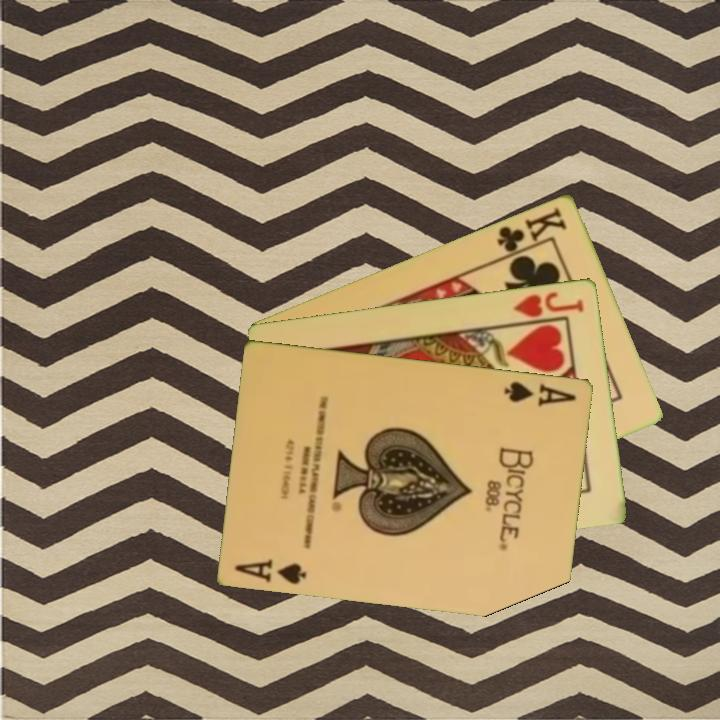As: (231, 555, 310, 587), (501, 377, 579, 409)
Jh: (510, 288, 587, 320)
Kc: (493, 202, 570, 261)
